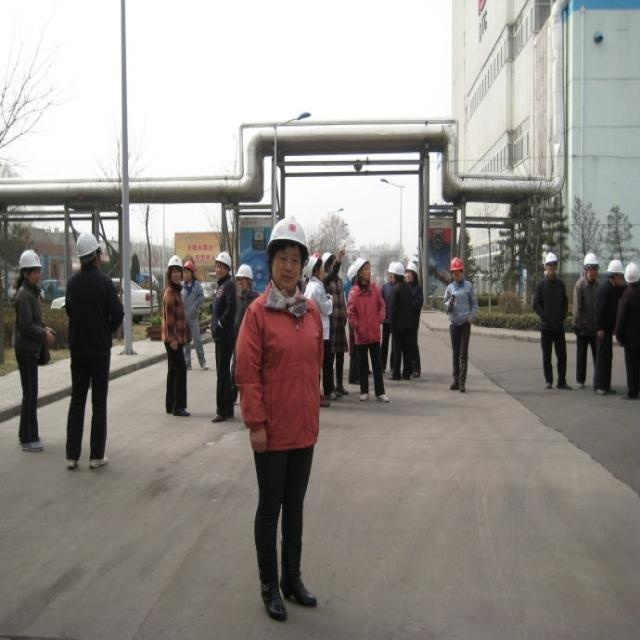Con_Casco: (270, 214, 308, 281), (74, 230, 103, 267), (18, 248, 41, 283)
Sin_Chaleco: (242, 290, 321, 444), (12, 284, 45, 357), (162, 287, 188, 349)
